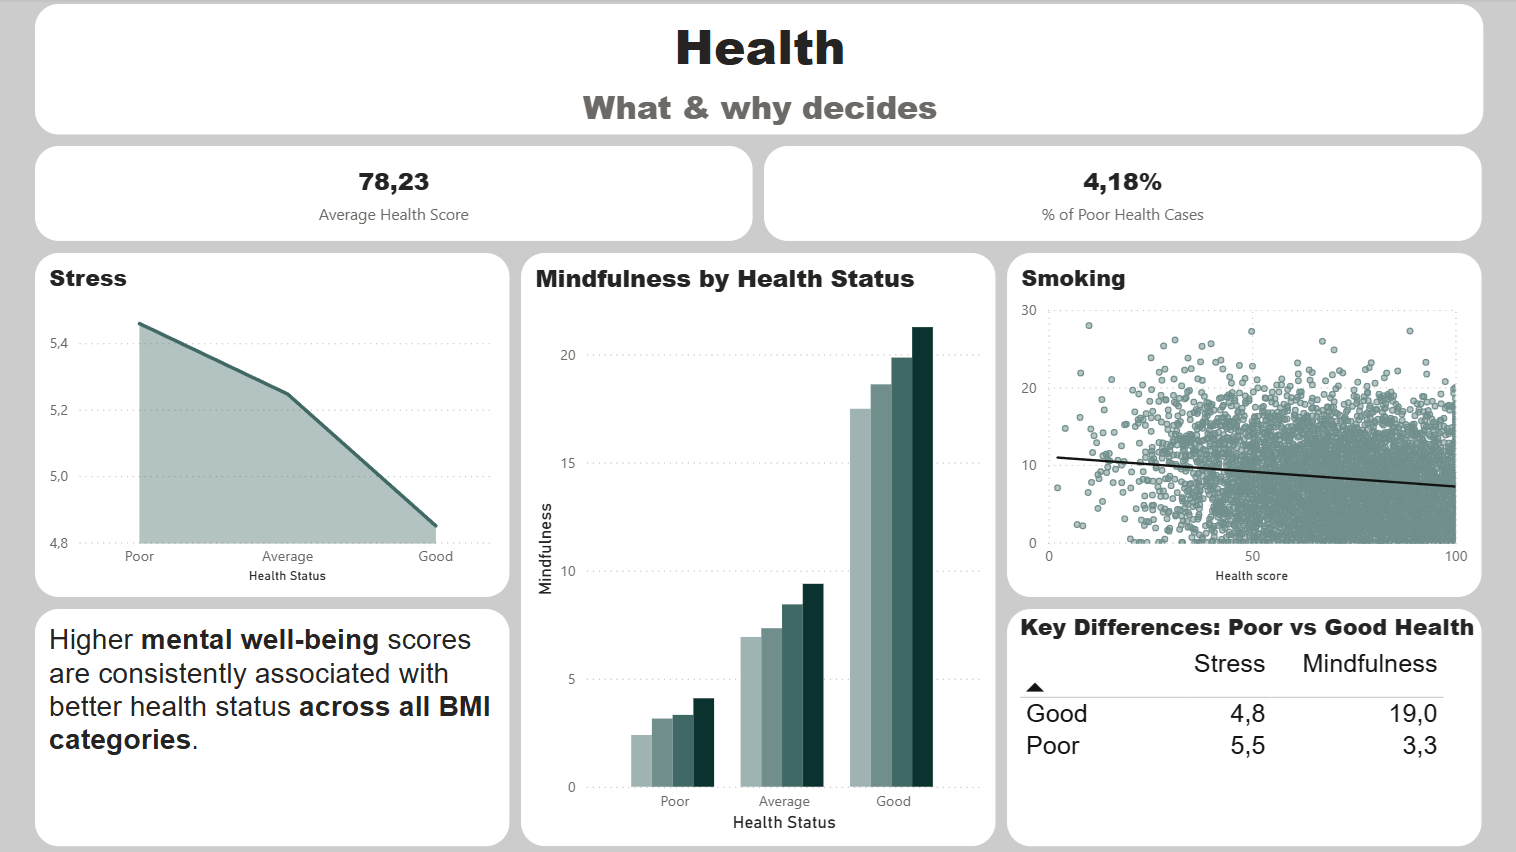

This screenshot's page, from the dashboard's own definition file:
{"tool":"powerbi","page":{"name":"Duplikat sekcji Page 1","canvas":[1280,720],"ordinal":1},"visuals":[{"type":"clusteredColumnChart","title":"Mindfulness by Health Status","fields":{"Category":["tab_health.Health_Status"],"Y":["Avg(tab_health.Mindfulness)"],"Series":["tab_health.BMI_Category"]},"box":[440,215,400,500],"z":0},{"type":"textbox","title":" Health","box":[30,5,1220.6,110],"z":1000},{"type":"card","fields":{"Values":["tab_health.Srednia Overall_Health_Score"]},"box":[30,125.1,605,80],"z":2000},{"type":"actionButton","box":[0,0,100,40],"z":3000},{"type":"card","fields":{"Values":["tab_health.Ile_poor"]},"box":[645,125,605,80],"z":4000},{"type":"scatterChart","title":"Smoking","fields":{"X":["tab_health.Overall_Health_Score"],"Y":["tab_health.Smoking"]},"box":[850,215,400,290],"z":5000},{"type":"areaChart","title":"Stress","fields":{"Category":["tab_health.Health_Status"],"Y":["Avg(tab_health.Stress_Level)"]},"box":[30,215,400,290],"z":6000},{"type":"textbox","box":[30,515,400,200],"z":7000},{"type":"pivotTable","title":"Key Differences: Poor vs Good Health","fields":{"Rows":["tab_health.Health_Status"],"Values":["Avg(tab_health.Stress_Level)","Avg(tab_health.Mindfulness)"]},"box":[850,515,400,200],"z":8000}]}

Visuals, with their boxes in screenshot pixels (x1, y1, x2, y2), scaled from the page's 1280x720 canvas onto the 1516x852 screenshot:
"Mindfulness by Health Status" clusteredColumnChart: 521 254 995 846
" Health" textbox: 36 6 1481 136
card - tab_health.Srednia Overall_Health_Score: 36 148 752 243
actionButton: 0 0 118 47
card - tab_health.Ile_poor: 764 148 1480 243
"Smoking" scatterChart: 1007 254 1480 598
"Stress" areaChart: 36 254 509 598
textbox: 36 609 509 846
"Key Differences: Poor vs Good Health" pivotTable: 1007 609 1480 846
